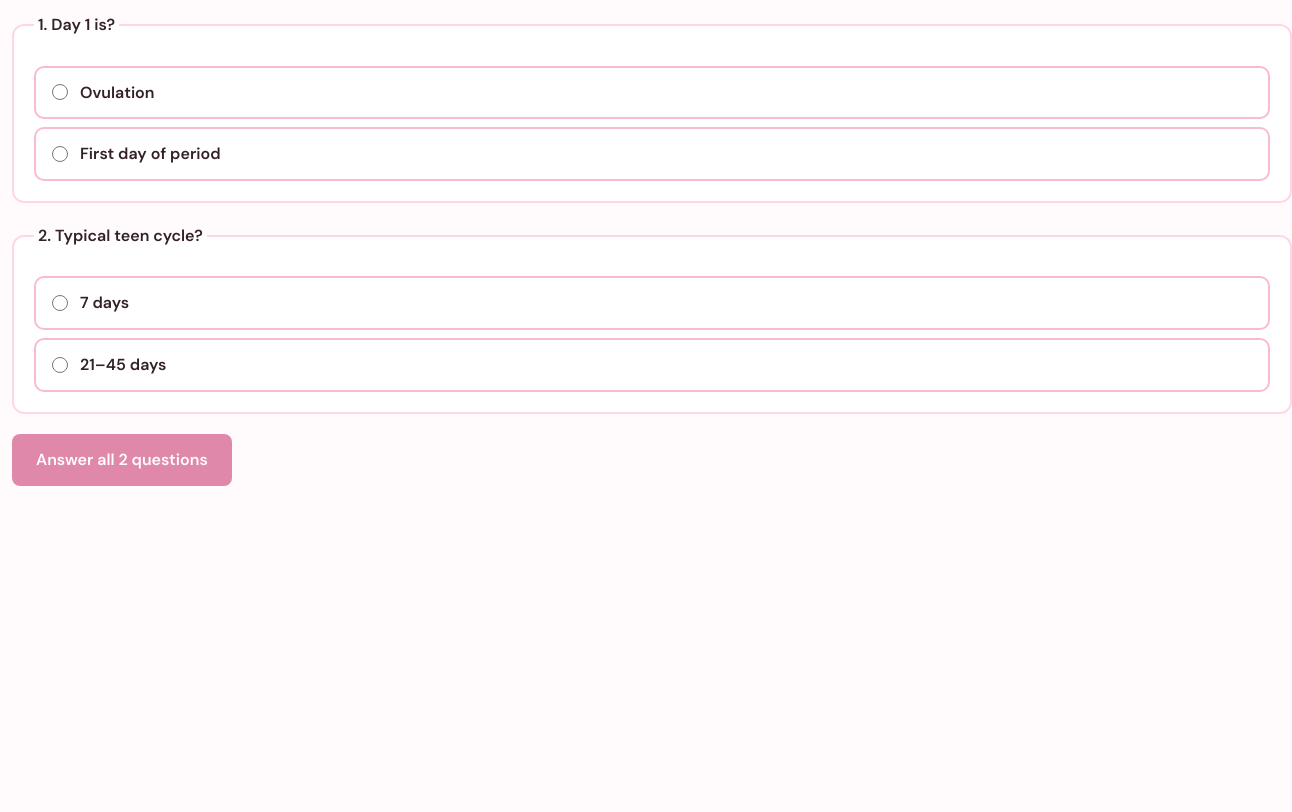
Test case: Quiz › only allows submitting once every question is answered
Expected: the button "Answer all 2 questions" is disabled, [12, 434, 232, 486]
Click the radio button labelled "First day of period": (60, 154) [52, 146, 68, 162]
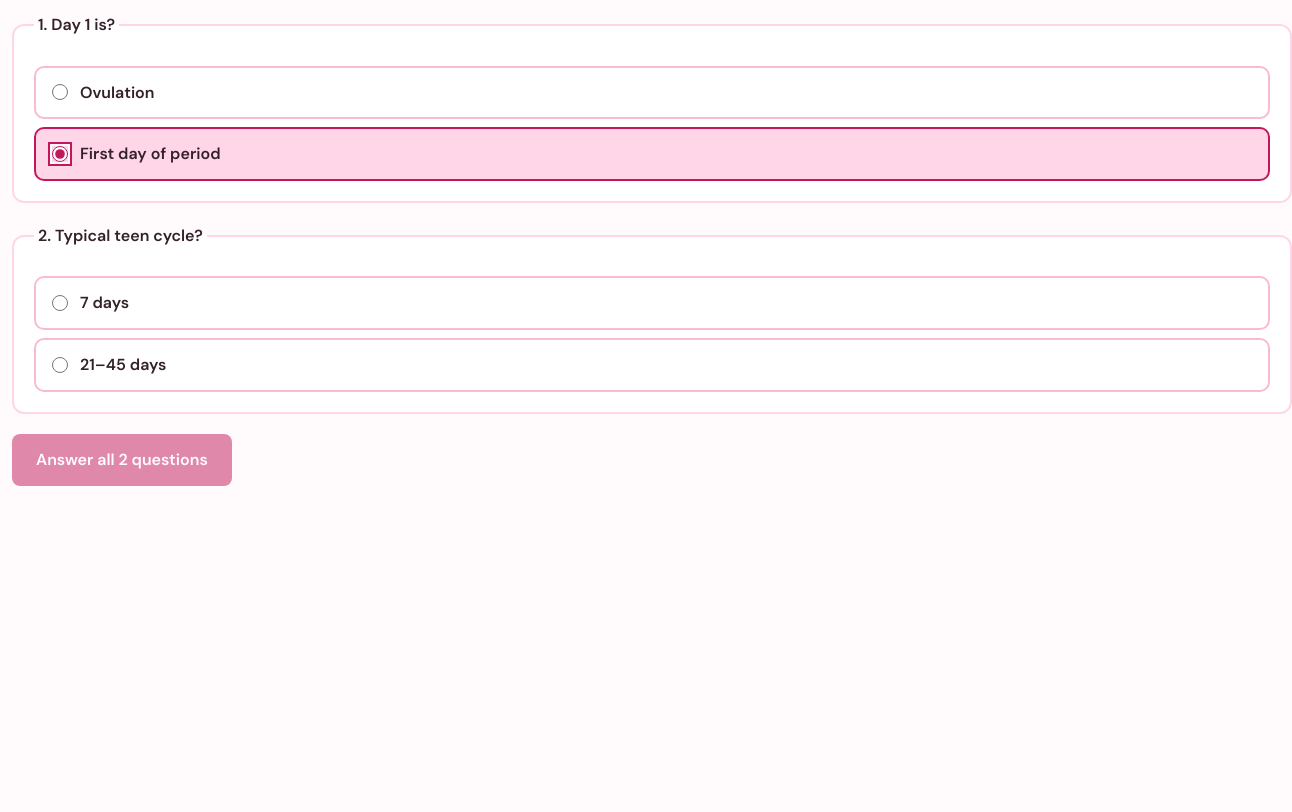
Click the radio button labelled "21–45 days": (60, 365) [52, 357, 68, 373]
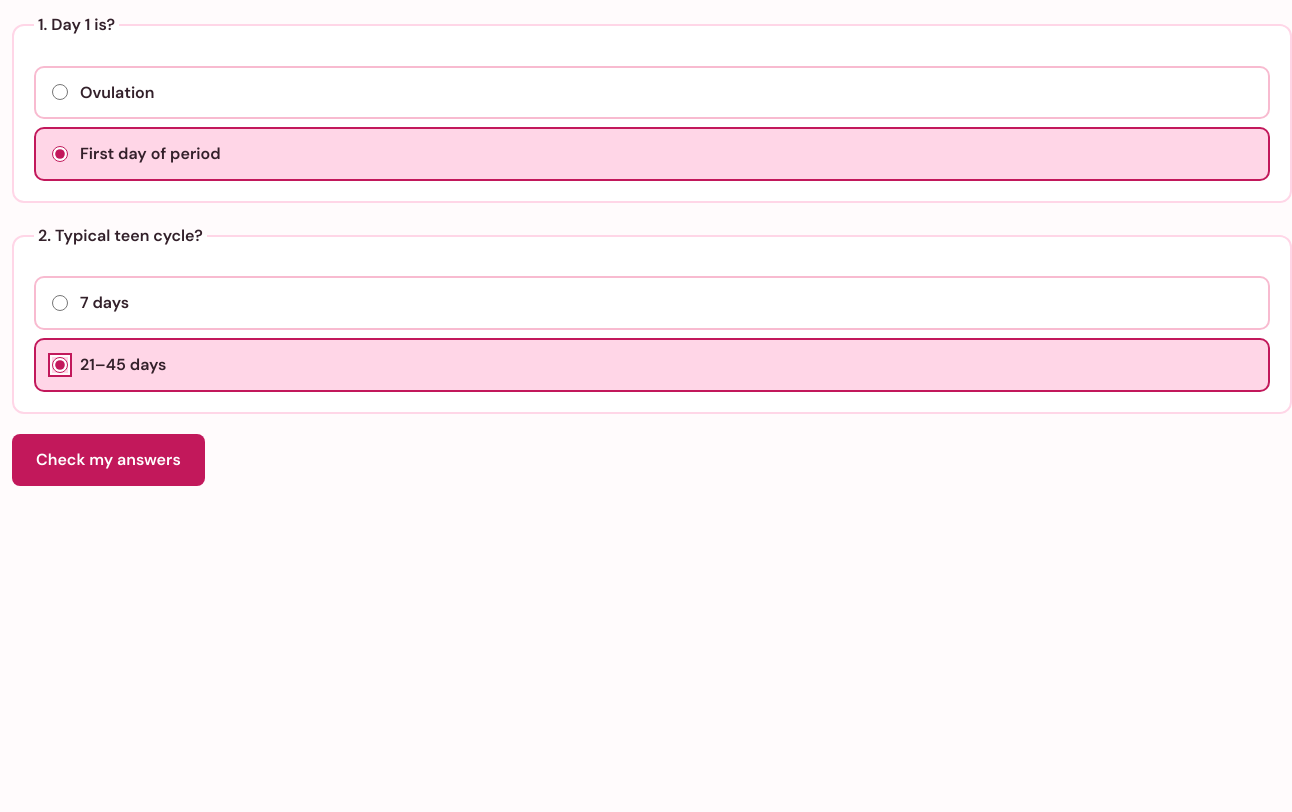
Click the button "Check my answers": (108, 460) [12, 434, 205, 486]
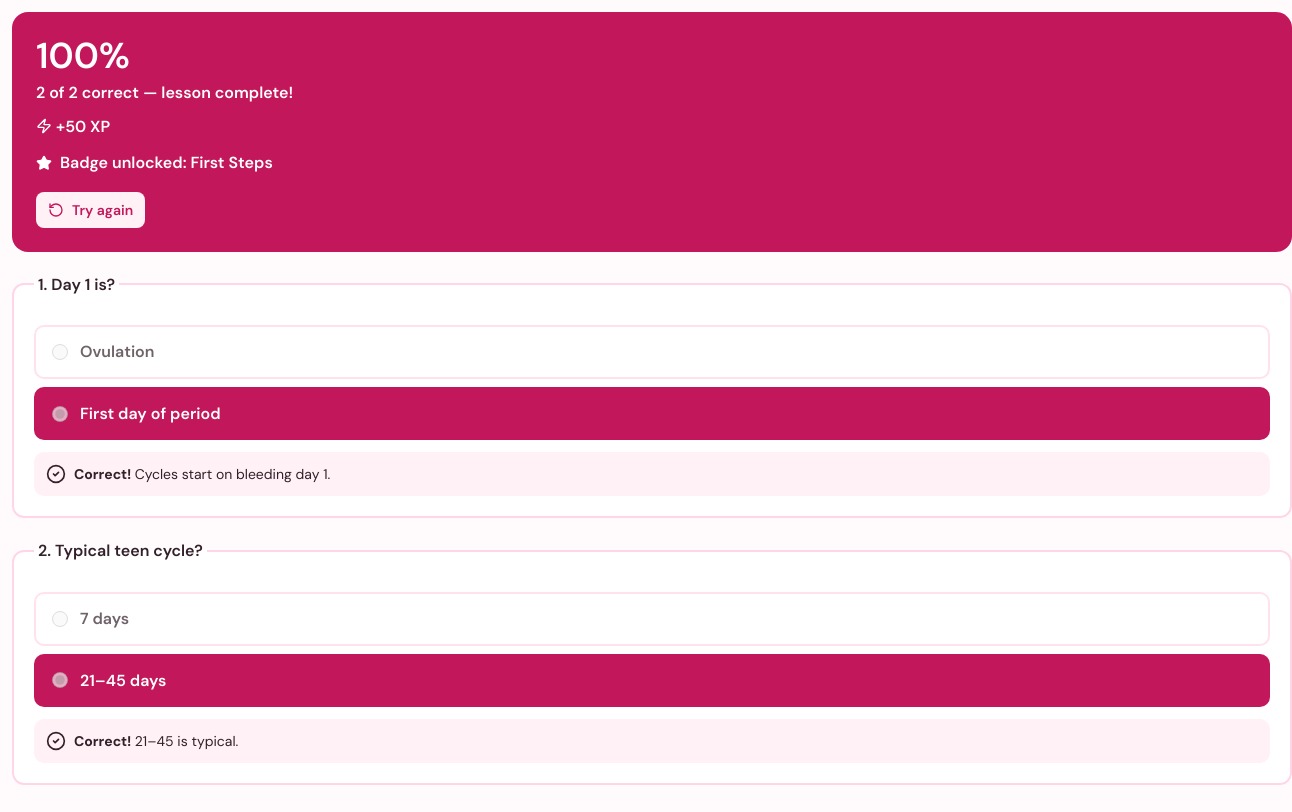
Expected: the text "100%" is shown, [36, 32, 130, 79]
Expected: the text "+50 XP" is shown, [36, 114, 110, 139]
Expected: the text "Badge unlocked: First Steps" is shown, [36, 152, 273, 173]
